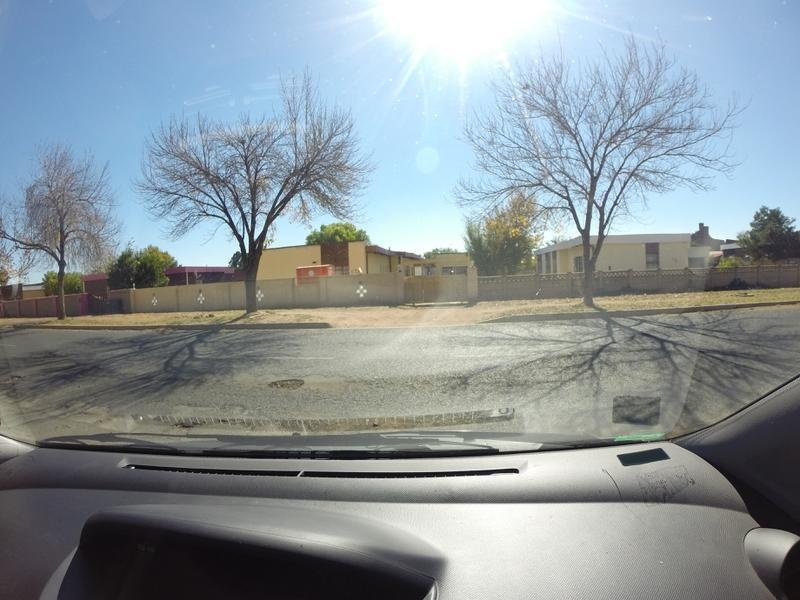pothole: (266, 377, 307, 392), (10, 368, 24, 381)
